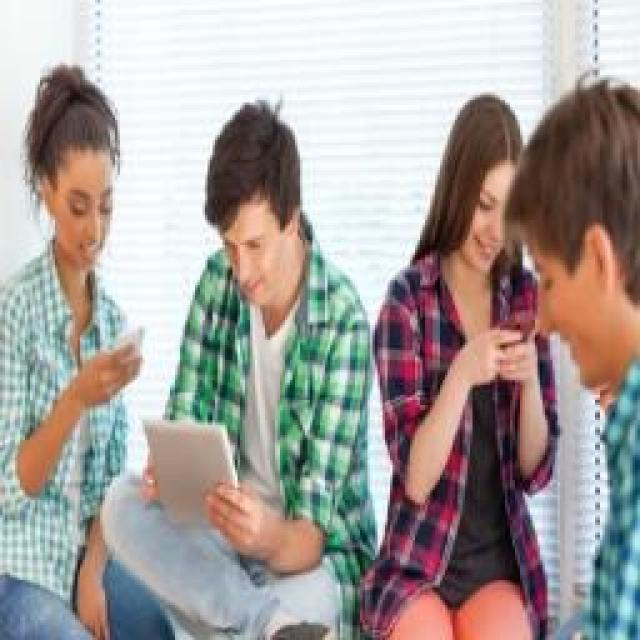phone: (145, 102, 375, 560), (375, 98, 560, 490), (0, 65, 145, 495)
